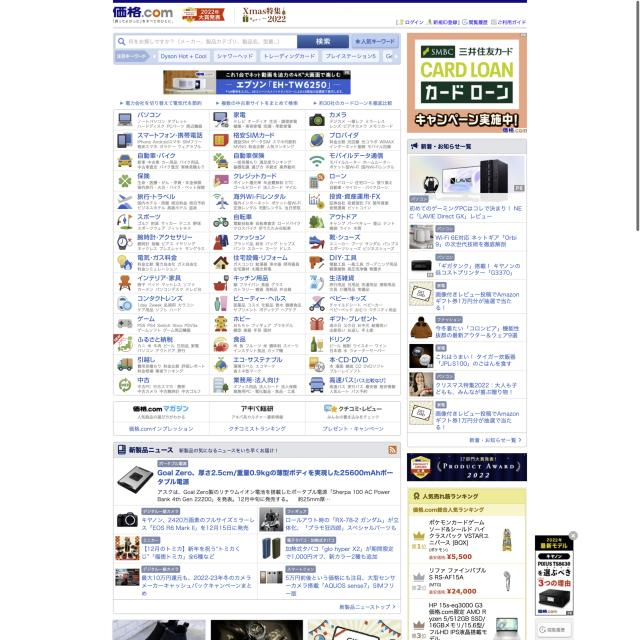input: (115, 35, 349, 48)
logo: (112, 5, 176, 25)
navigation: (113, 109, 400, 395), (396, 18, 527, 26)
